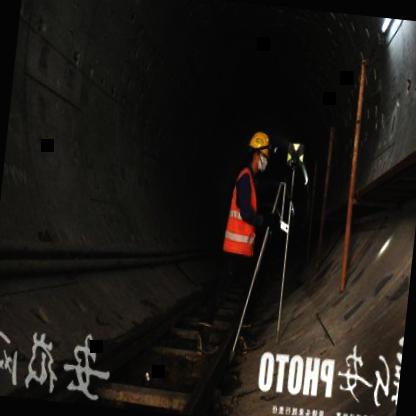helmet: (244, 127, 274, 170)
